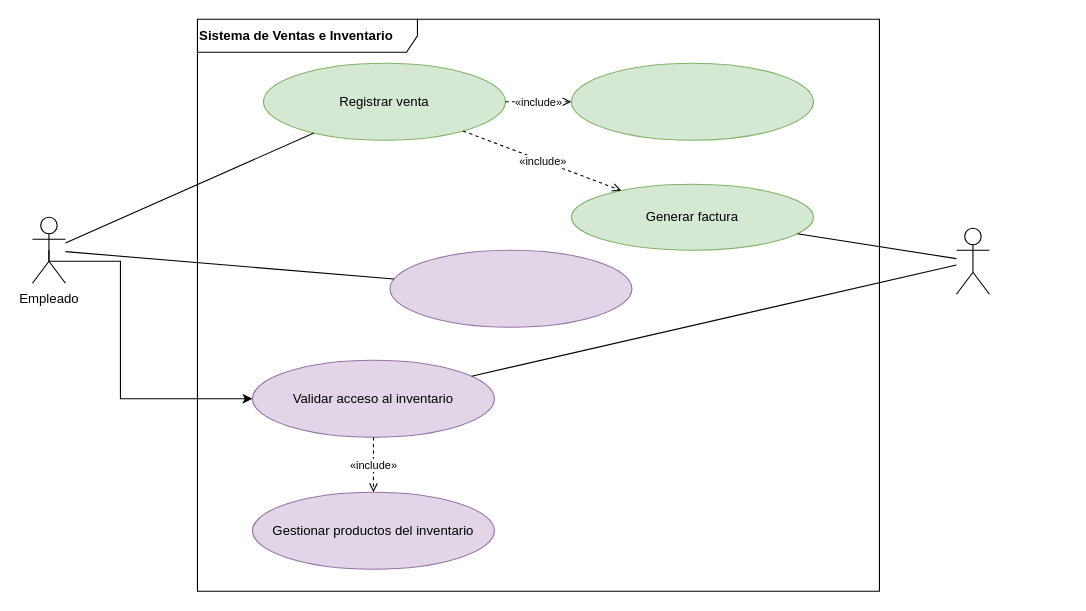
Image size: 1086x611. Some labels were removed from this diagram. The centre of each missing label's shape, as x and y in pixels:
Agregar producto al carrito: (x=691, y=101)
Consultar catalogo de productos: (x=510, y=288)
Sistema (procesos automaticos): (x=972, y=260)
